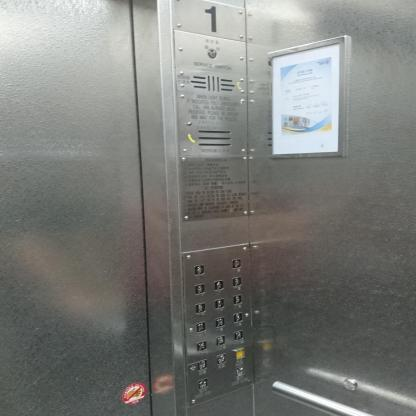1: (232, 258, 241, 268)
10: (215, 316, 225, 329)
11: (195, 321, 206, 333)
12: (235, 330, 242, 341)
13: (216, 335, 226, 346)
14: (196, 340, 207, 352)
2: (194, 264, 204, 276)
3: (232, 276, 242, 288)
4: (214, 280, 224, 291)
5: (194, 283, 206, 295)
6: (233, 294, 242, 304)
7: (214, 298, 224, 310)
8: (194, 302, 206, 314)
9: (234, 312, 242, 323)
LG: (198, 358, 208, 372)
UG: (216, 353, 226, 364)
alarm: (235, 348, 244, 359)
close: (235, 366, 244, 377)
keyhole: (206, 49, 218, 60)
open: (198, 378, 208, 390)
s: (187, 361, 198, 374)
